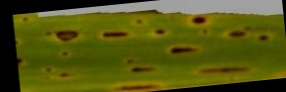Bacterial_Leaf_Blight: (40, 28, 85, 43), (194, 63, 255, 74), (108, 82, 163, 92), (167, 42, 202, 57), (186, 11, 214, 29), (123, 62, 159, 74), (96, 29, 129, 40), (151, 20, 170, 39), (223, 30, 246, 40), (123, 52, 138, 66), (258, 30, 274, 42), (55, 49, 73, 58), (135, 16, 147, 28), (18, 54, 28, 66), (42, 64, 55, 73), (59, 70, 71, 79), (16, 36, 23, 48), (21, 16, 29, 23)
